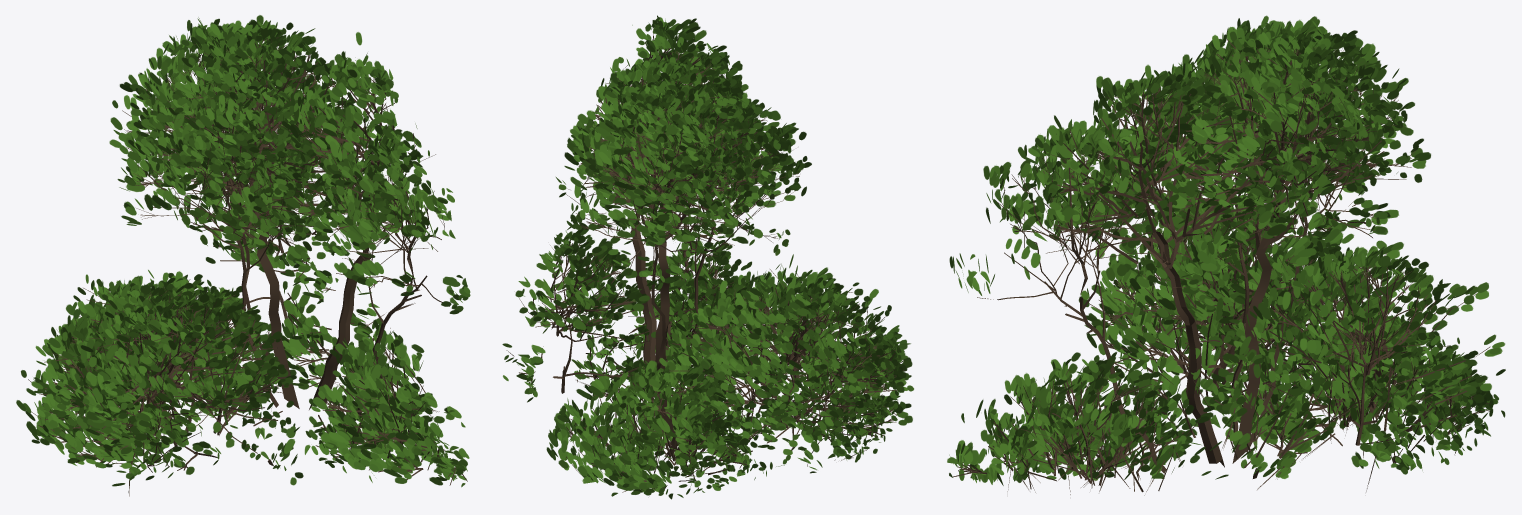
3 views of the same model, side by side, from view 1: azimuth 30°, elevation 25°; view 2: azimuth 150°, elevation 25°; view 3: azimuth 270°, elevation 25° (orthographic). The views are drawn at different scales.
Parts seen in each view (by area): view 1: oak 01.001_trunk_Mat.001_0.289; view 2: oak 01.001_trunk_Mat.001_0.289; view 3: oak 01.001_trunk_Mat.001_0.289.
Boxes of the visible parts, x1=… form: oak 01.001_trunk_Mat.001_0.289: x1=16, y1=15, x2=470, y2=496; oak 01.001_trunk_Mat.001_0.289: x1=502, y1=15, x2=913, y2=499; oak 01.001_trunk_Mat.001_0.289: x1=947, y1=15, x2=1505, y2=495.
Bounding box in the file's own units: 3.38 × 3.92 × 4.55.
Materials: 2 (1 with a texture image).
